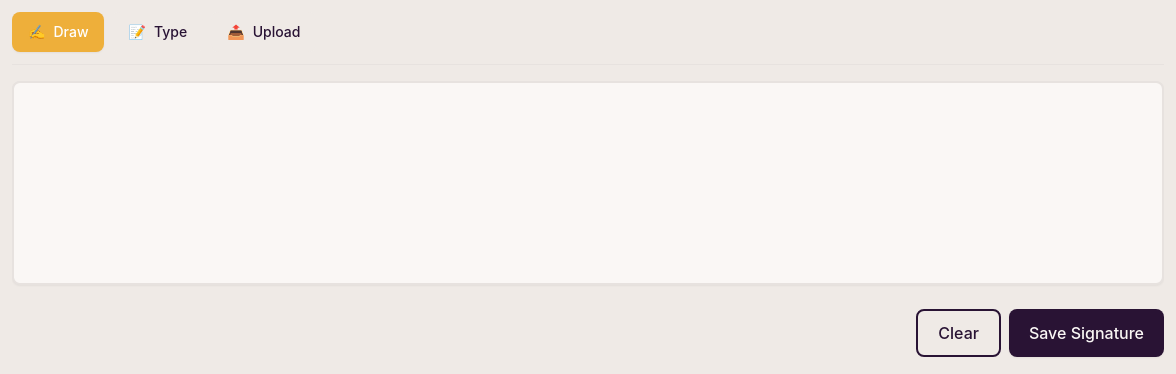
Scenario: SignaturePad Component › should switch to typed mode when clicked
Click the tab "📝 Type" at (158, 32), box [112,12,203,52]
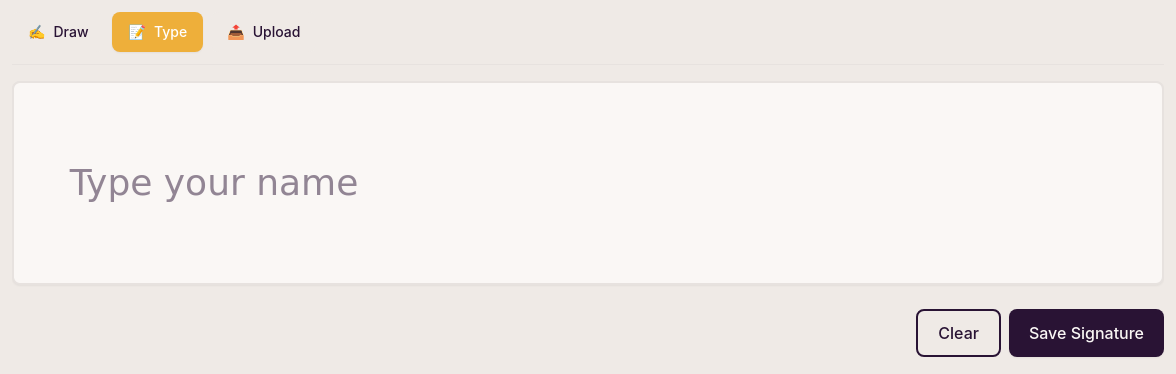
Expected: the field with placeholder "Type your name" is shown, [30,163,398,203]
